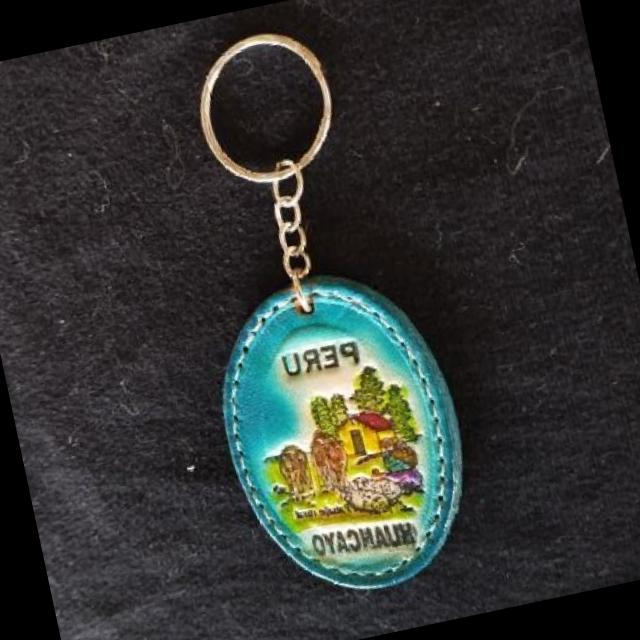Llavero: (196, 251, 489, 614)
